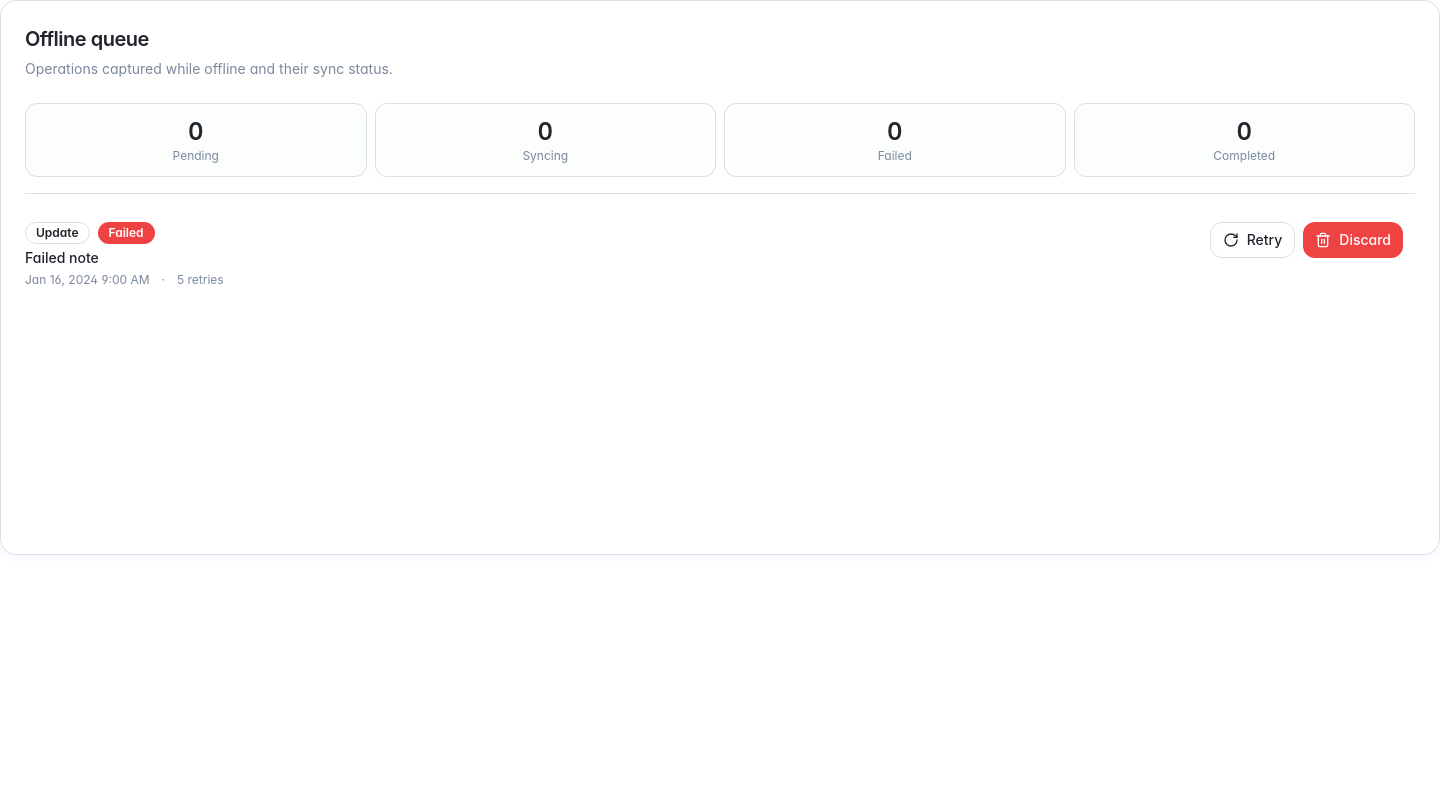
it: QueueStatusPanel › discards only after confirming the permanent action (Req 8.6)
Later steps or results of the test are not shown.
// Opening the dialog must not discard yet.
Click the button with aria-label "Discard Failed note".
click(1353, 240)  # box [1303,222,1403,258]
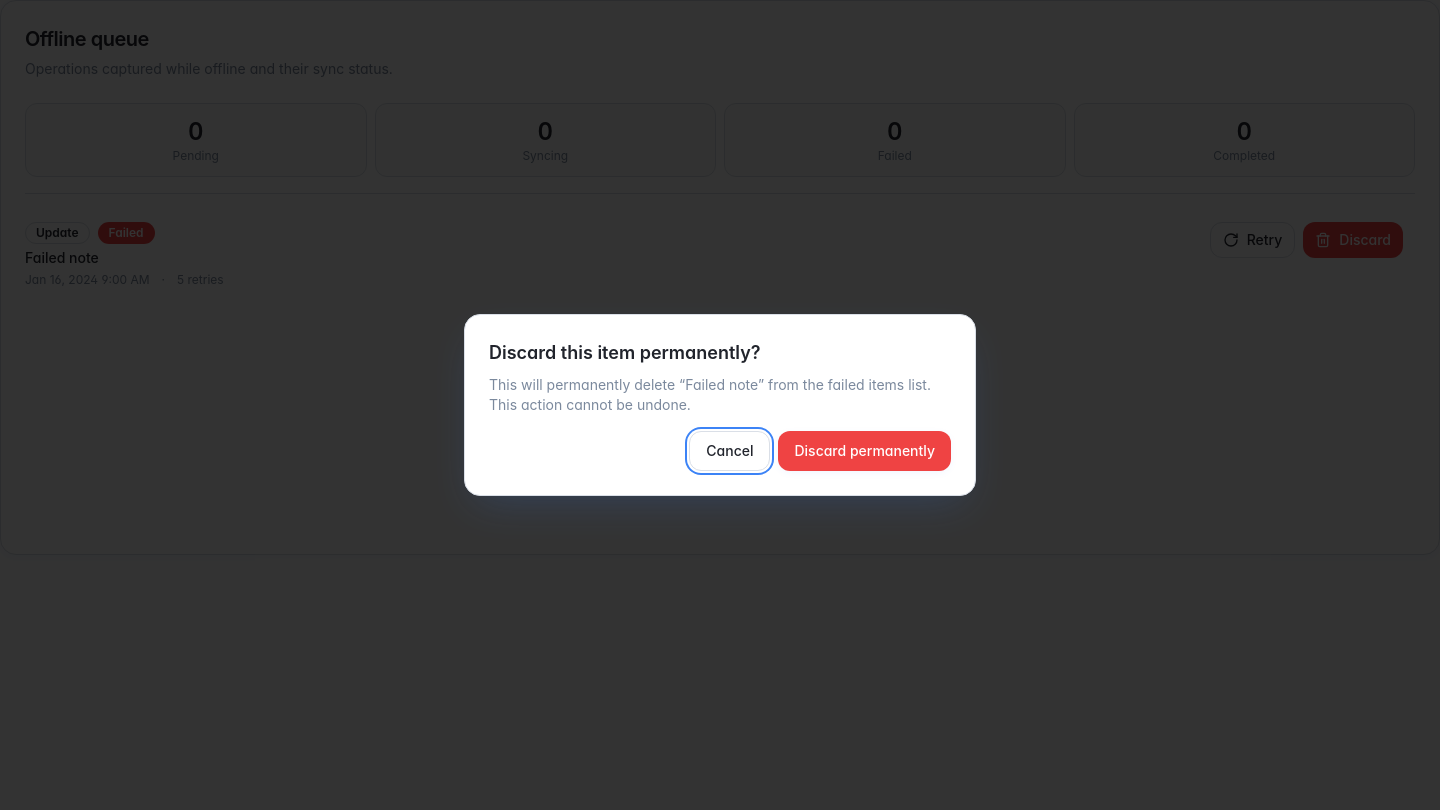
Expected: the text "permanently delete" is shown, [489,376,685,393]
